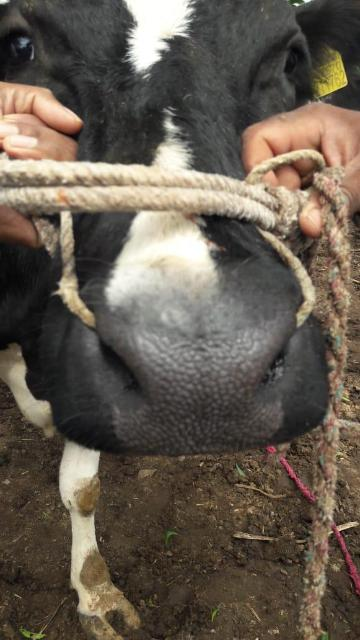Muzzle: (126, 328, 272, 454)
